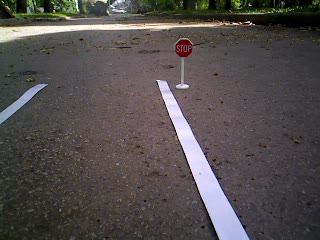Stop: (172, 36, 195, 60)
